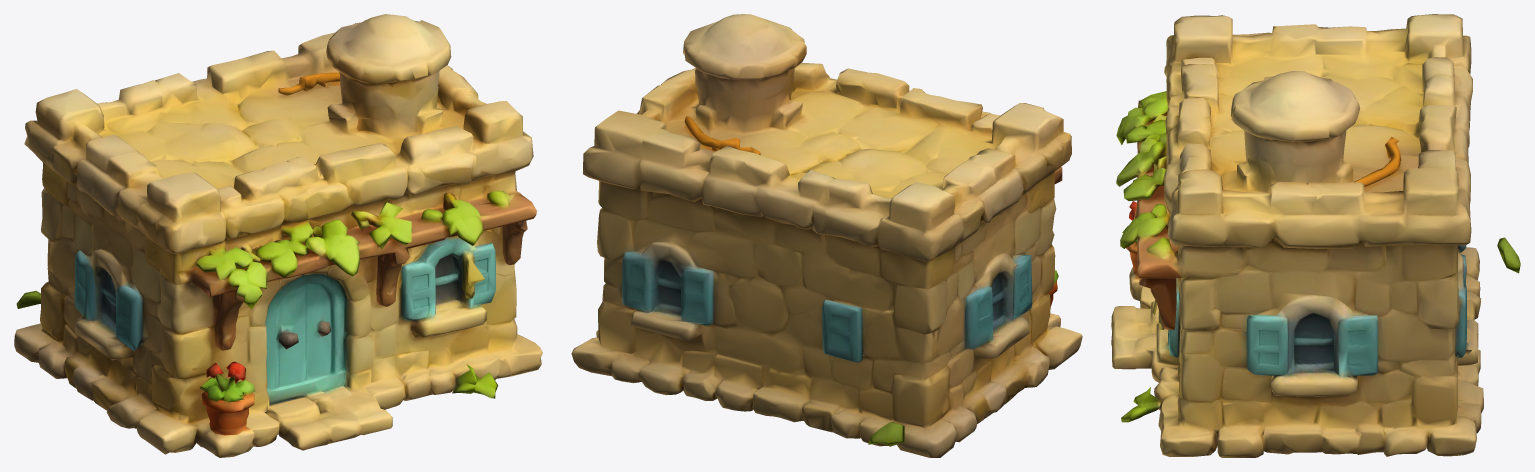
File: house.glb
The picture shows the model from 3 angles, left to right: view 1: azimuth 30°, elevation 25°; view 2: azimuth 150°, elevation 25°; view 3: azimuth 270°, elevation 25°; orthographic projection. The views are drawn at different scales.
Visible parts, largest first — view 1: tripo_node_72f19fcc-e640-41b3-968b-6cd966b91277; view 2: tripo_node_72f19fcc-e640-41b3-968b-6cd966b91277; view 3: tripo_node_72f19fcc-e640-41b3-968b-6cd966b91277.
Part boxes in pixels (x1=…): tripo_node_72f19fcc-e640-41b3-968b-6cd966b91277: x1=14, y1=14, x2=542, y2=457; tripo_node_72f19fcc-e640-41b3-968b-6cd966b91277: x1=571, y1=14, x2=1082, y2=457; tripo_node_72f19fcc-e640-41b3-968b-6cd966b91277: x1=1111, y1=14, x2=1520, y2=457.
Bounding box in the file's own units: 1 × 0.808 × 0.8876.
1 material, 1 textured.
